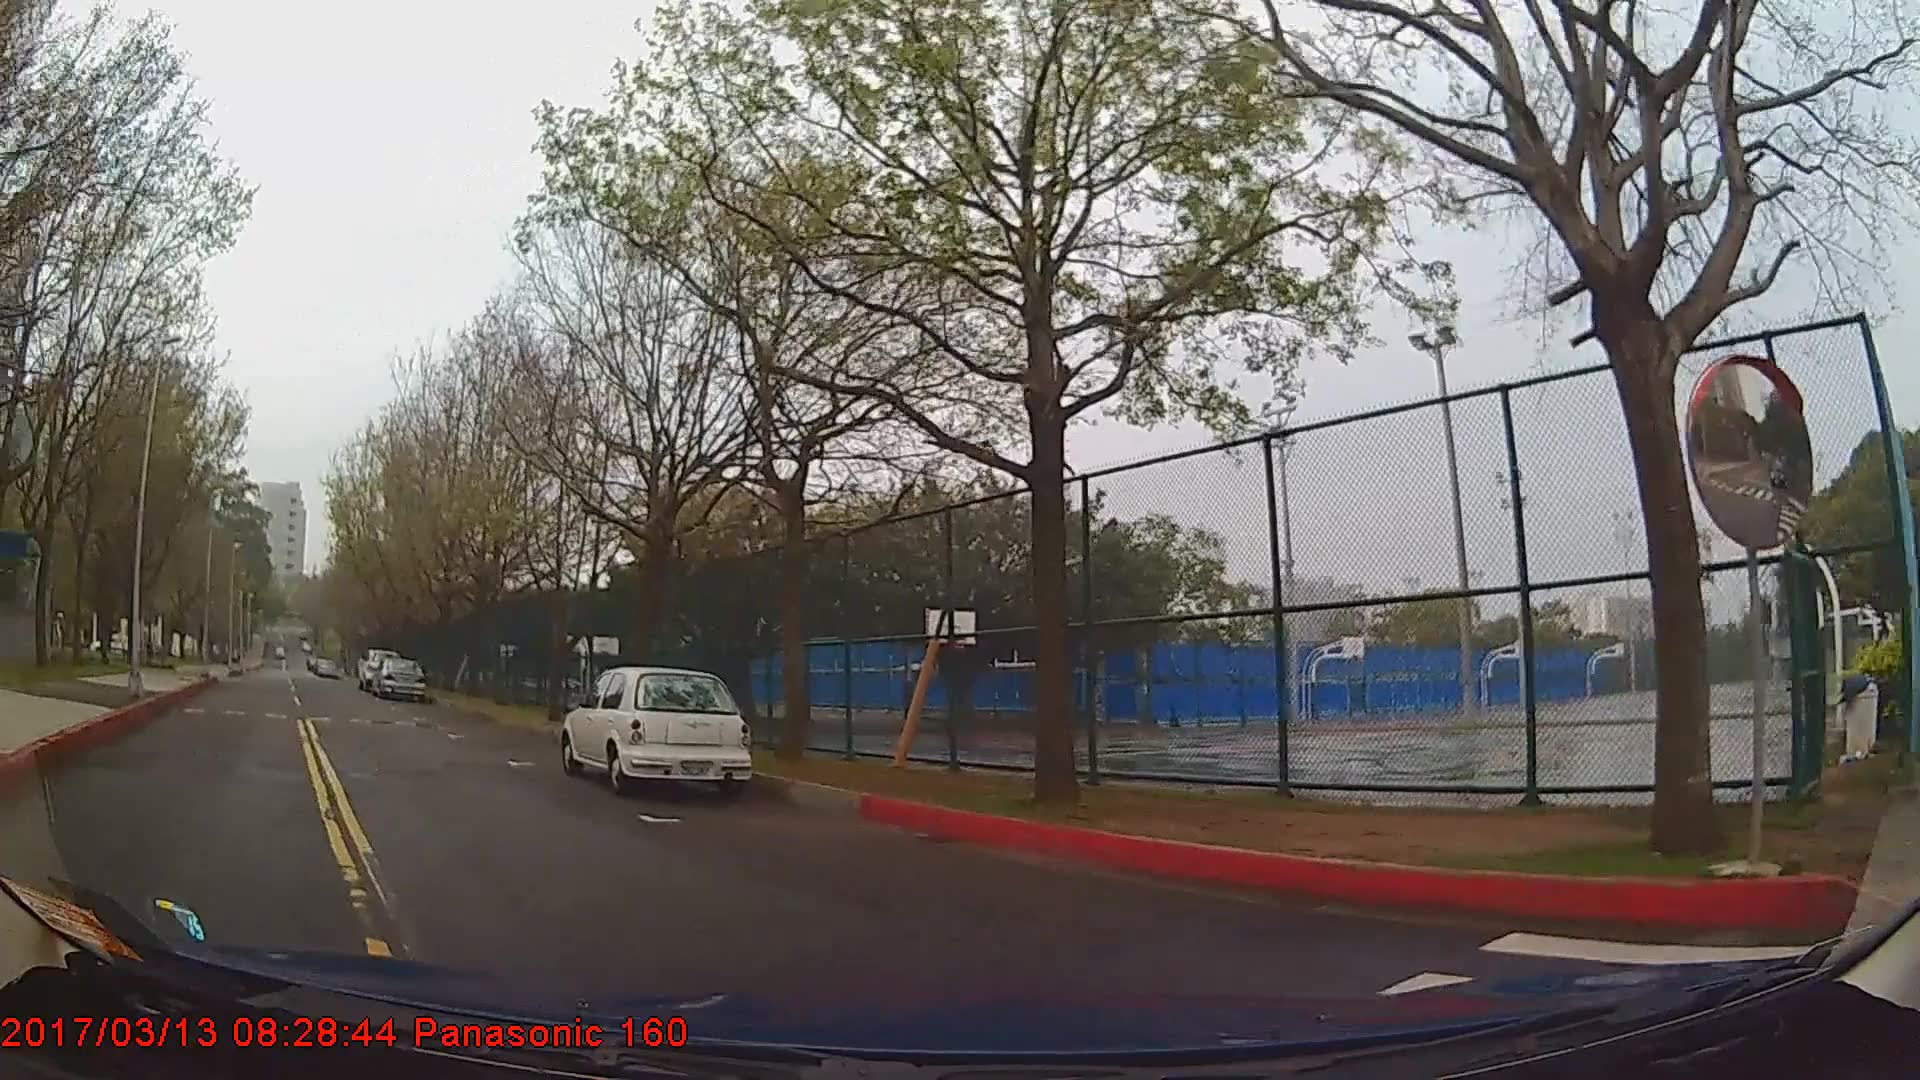vehicle: (560, 665, 752, 793), (369, 655, 426, 698)
